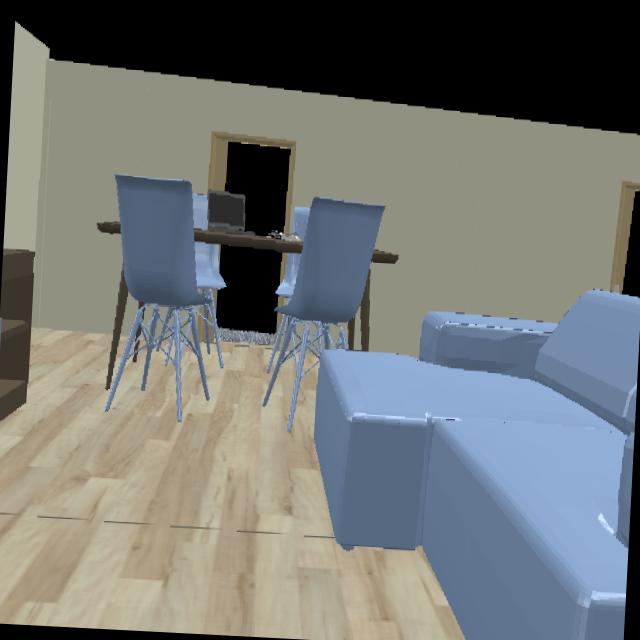chair: (269, 197, 386, 384), (116, 175, 225, 307)
laptop: (207, 192, 246, 233)
sofa: (314, 290, 640, 640)
table: (194, 229, 303, 254), (360, 272, 371, 352), (372, 251, 398, 265)
